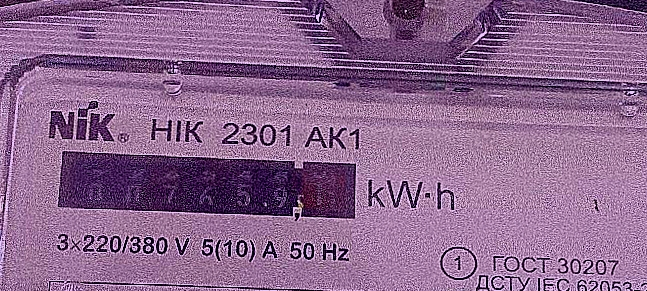0: (123, 180, 142, 205), (85, 178, 103, 204)
1: (312, 177, 327, 209)
5: (232, 180, 254, 208)
6: (196, 182, 215, 207)
7: (159, 181, 179, 207)
9: (270, 183, 288, 210)
screen: (47, 138, 367, 235)
